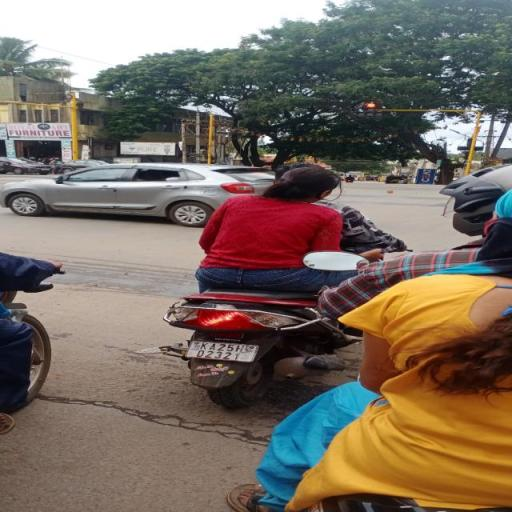bike: (160, 158, 420, 410)
numberplate: (188, 336, 259, 368)
withouthelmet: (281, 166, 335, 200)
